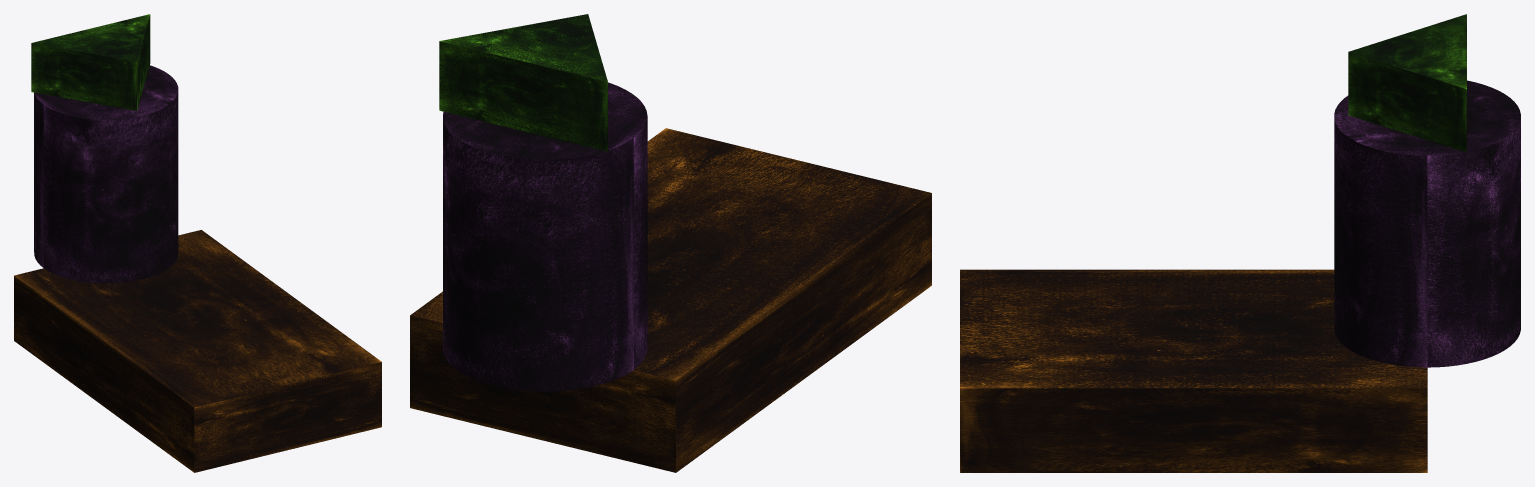
Rendered from SamirSababu.gltf.
The picture shows the model from 3 angles, left to right: view 1: azimuth 30°, elevation 25°; view 2: azimuth 150°, elevation 25°; view 3: azimuth 270°, elevation 25°; orthographic projection. The views are drawn at different scales.
Visible parts, largest first — view 1: mesh9_mesh_4, mesh5_mesh_2, mesh9_mesh_2, mesh9_mesh_1, mesh0_mesh_1, mesh5_mesh, mesh0_mesh_4, mesh5_mesh_1, mesh0_mesh_3; view 2: mesh5_mesh_1, mesh9_mesh_4, mesh9_mesh_1, mesh9_mesh, mesh0_mesh_2, mesh5_mesh, mesh0_mesh_4, mesh5_mesh_2; view 3: mesh9_mesh_4, mesh9_mesh_3, mesh5_mesh_2, mesh5_mesh_1, mesh0_mesh_3, mesh5_mesh, mesh0_mesh_4.
Part boxes in pixels (x1,y1,x2,y2): mesh9_mesh_4: [14, 230, 381, 407]; mesh5_mesh_2: [43, 92, 178, 283]; mesh9_mesh_2: [194, 362, 381, 472]; mesh9_mesh_1: [14, 276, 194, 472]; mesh0_mesh_1: [31, 43, 136, 110]; mesh5_mesh: [35, 65, 178, 119]; mesh0_mesh_4: [32, 14, 150, 61]; mesh5_mesh_1: [34, 92, 43, 267]; mesh0_mesh_3: [137, 15, 150, 110]; mesh5_mesh_1: [443, 119, 633, 391]; mesh9_mesh_4: [410, 128, 931, 379]; mesh9_mesh_1: [676, 193, 931, 472]; mesh9_mesh: [410, 315, 675, 472]; mesh0_mesh_2: [439, 41, 607, 151]; mesh5_mesh: [443, 82, 647, 159]; mesh0_mesh_4: [440, 14, 607, 81]; mesh5_mesh_2: [633, 116, 647, 369]; mesh9_mesh_4: [960, 269, 1427, 388]; mesh9_mesh_3: [960, 388, 1427, 472]; mesh5_mesh_2: [1334, 120, 1427, 367]; mesh5_mesh_1: [1427, 119, 1520, 367]; mesh0_mesh_3: [1348, 52, 1466, 152]; mesh5_mesh: [1334, 80, 1520, 155]; mesh0_mesh_4: [1348, 14, 1466, 88].
Bounding box in the file's own units: 0.06 × 0.0852 × 0.12.
3 materials, 3 textured.
